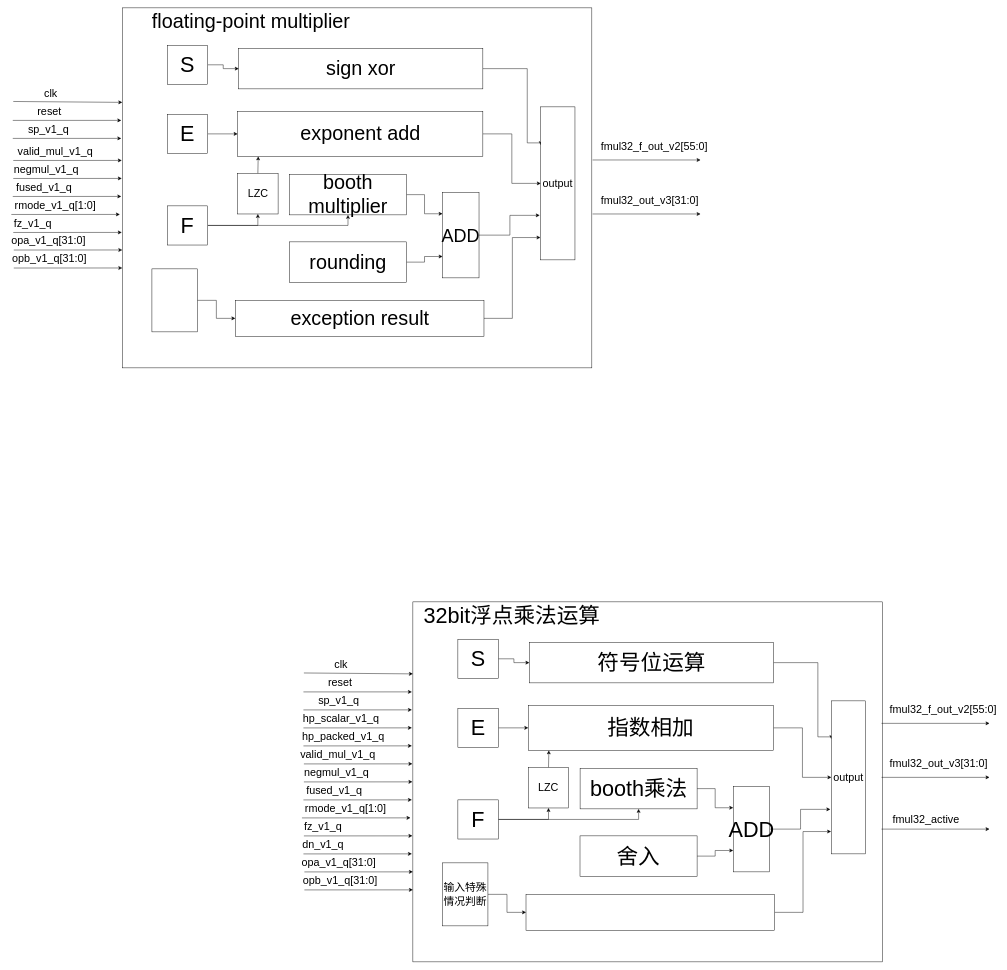
Some shapes in this 1007 by 970 pixel diagram are drawn without their labels. Here are the shapes that lost their labels. From the top down, the centre of each, then its label:
At point (174, 300): "exception input".
At point (650, 912): "特殊值处理".
